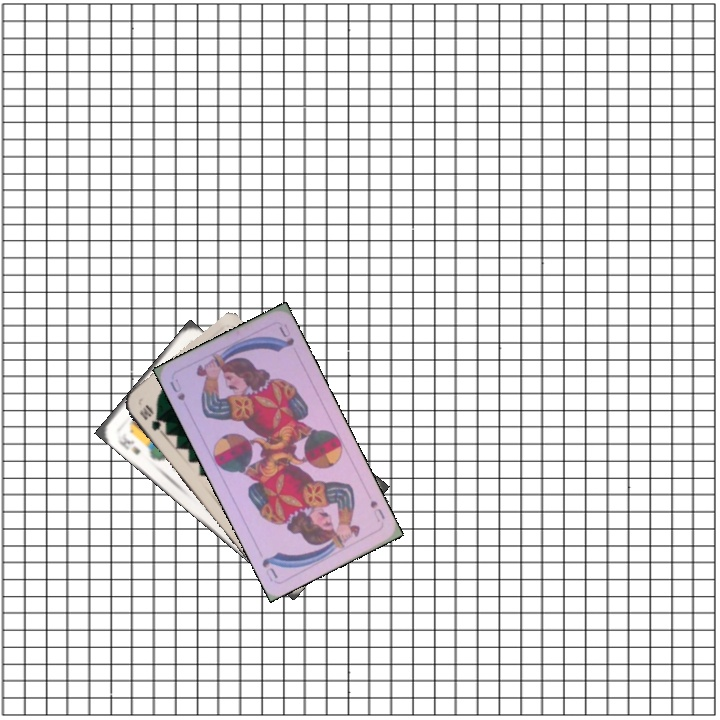EK: (113, 429, 143, 457)
G10: (135, 401, 164, 434)
SU: (366, 496, 388, 525), (166, 375, 188, 403)
